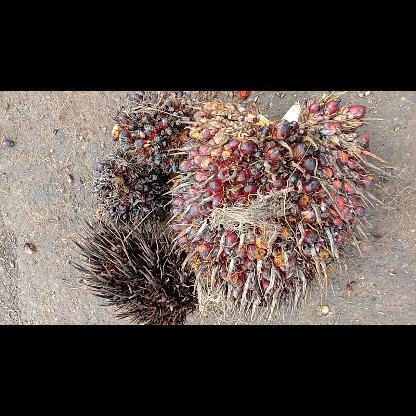Janjang kosong: (65, 214, 199, 324)
TBS abnormal: (111, 90, 199, 174), (88, 150, 171, 228)
TBS masak: (166, 97, 376, 319)
